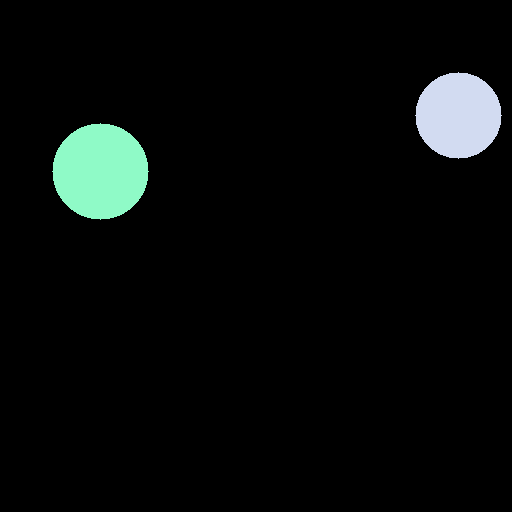circle: (52, 123, 148, 219), (415, 72, 501, 158)
